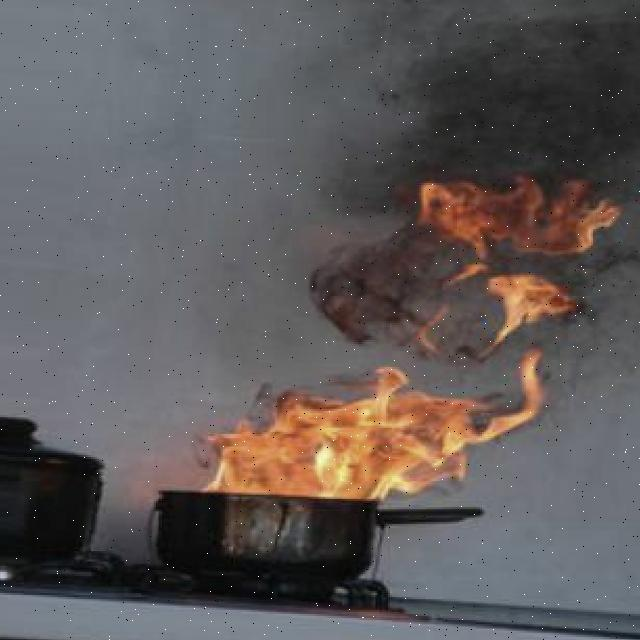fire: (198, 363, 547, 497), (422, 170, 620, 332)
smoke: (329, 0, 637, 200), (294, 225, 421, 348)
